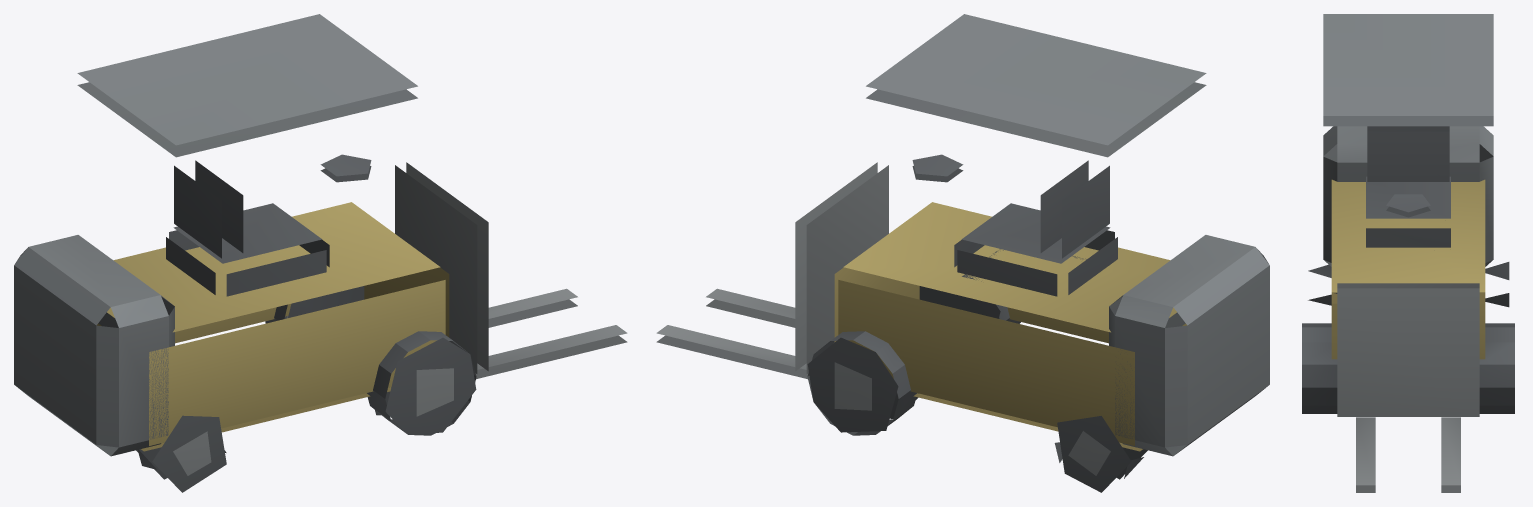
The model's file is mil_forklift.lod.glb.
The picture shows the model from 3 angles, left to right: view 1: azimuth 30°, elevation 25°; view 2: azimuth 150°, elevation 25°; view 3: azimuth 270°, elevation 25°; orthographic projection. The views are drawn at different scales.
Parts seen in each view (by area): view 1: mil_forklift; view 2: mil_forklift; view 3: mil_forklift.
Part boxes in pixels (box(x1,y1,x2,y2)): mil_forklift: box(14, 14, 627, 492); mil_forklift: box(656, 14, 1269, 492); mil_forklift: box(1302, 14, 1514, 492).
Bounding box in the file's own units: 3.8 × 2.28 × 1.55.
